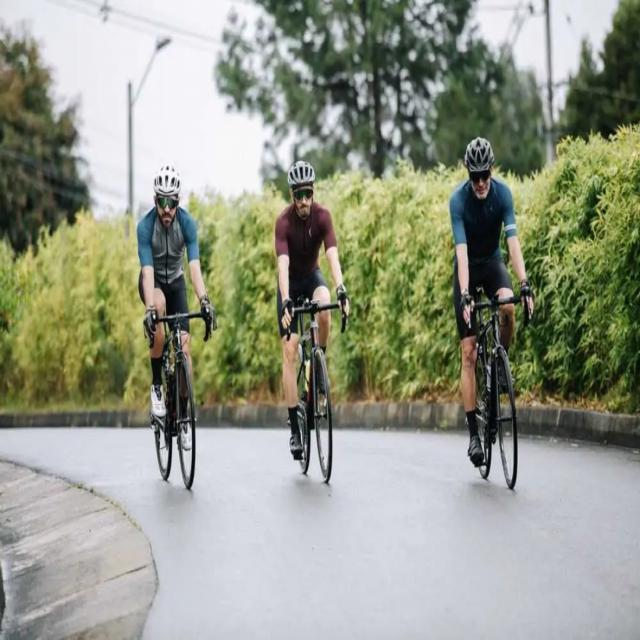Helmet: (453, 130, 505, 204), (146, 163, 187, 236), (282, 154, 320, 225)
